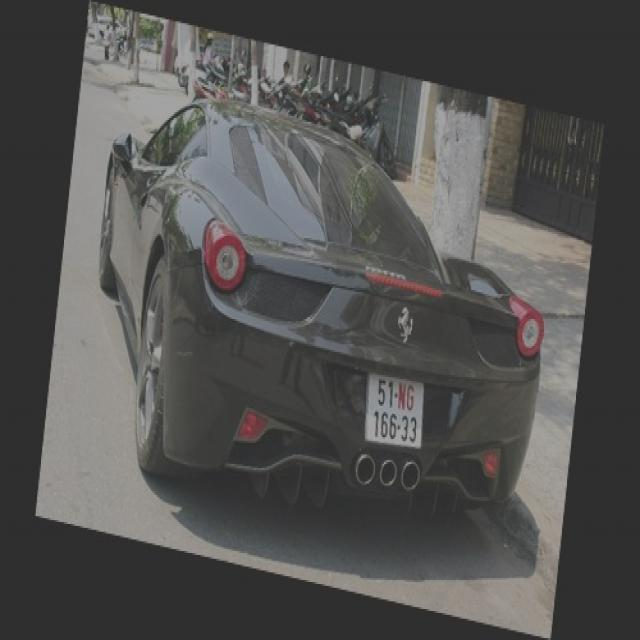bien_ngoai_giao: (368, 374, 422, 451)
